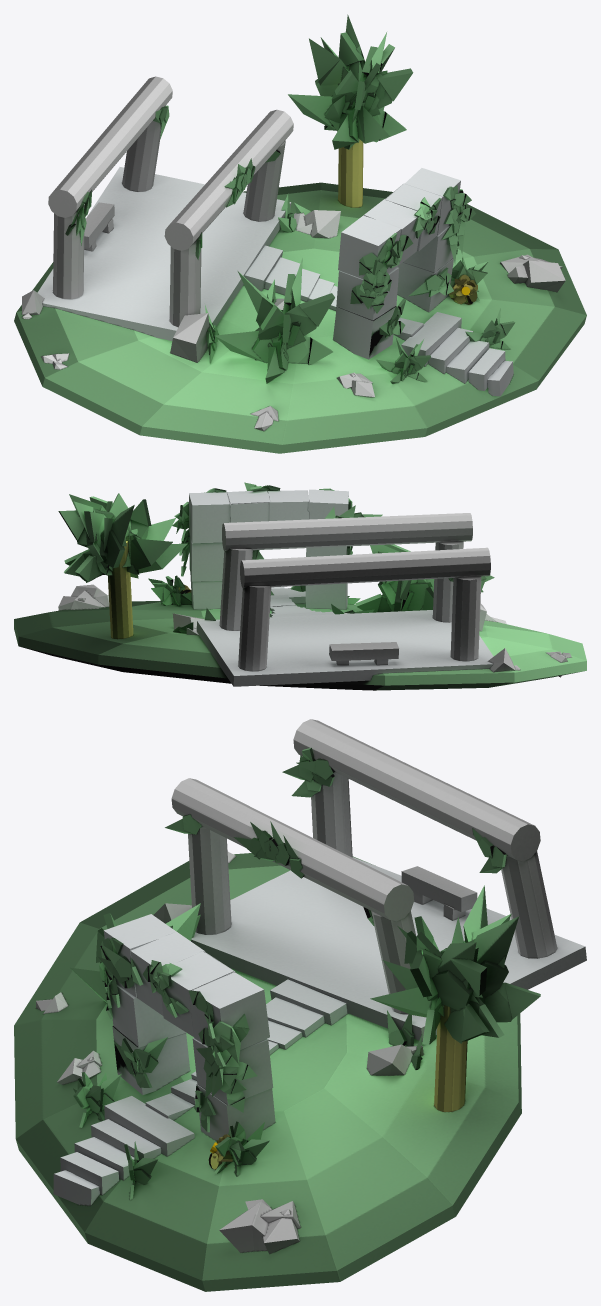
Rendered from blocksruins.dae.
3 renders of one model, top to bottom at view 1: azimuth 30°, elevation 25°; view 2: azimuth 150°, elevation 25°; view 3: azimuth 270°, elevation 25°, orthographic. The views are drawn at different scales.
Visible parts, largest first — view 1: model; view 2: model; view 3: model.
Part boxes in pixels (bbox=[...]): model: bbox=[14, 14, 586, 453]; model: bbox=[14, 482, 586, 690]; model: bbox=[14, 719, 586, 1291].
Size of the model in its own units: 4.11 by 2.85 by 1.76.
Materials: 5 (5 with a texture image).
